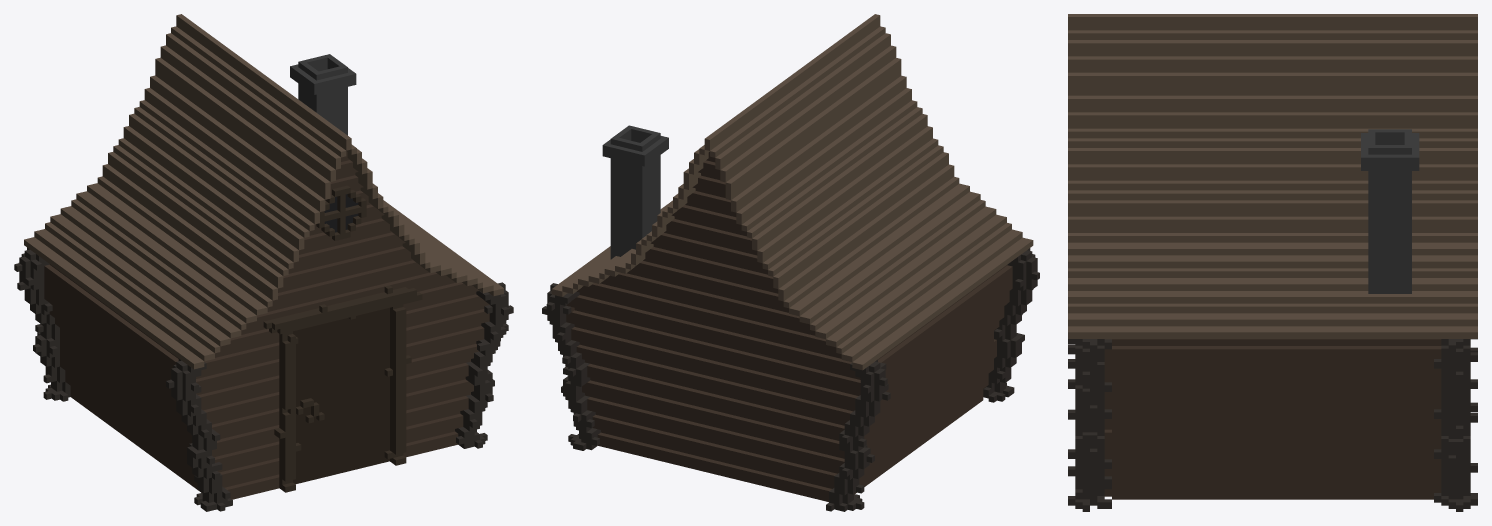
The model's file is Witches Hut.obj.
3 views of the same model, side by side, from view 1: azimuth 30°, elevation 25°; view 2: azimuth 150°, elevation 25°; view 3: azimuth 270°, elevation 25° (orthographic). The views are drawn at different scales.
Bounding box in the file's own units: 6.5 × 6.2 × 5.6.
1 material, 1 textured.
